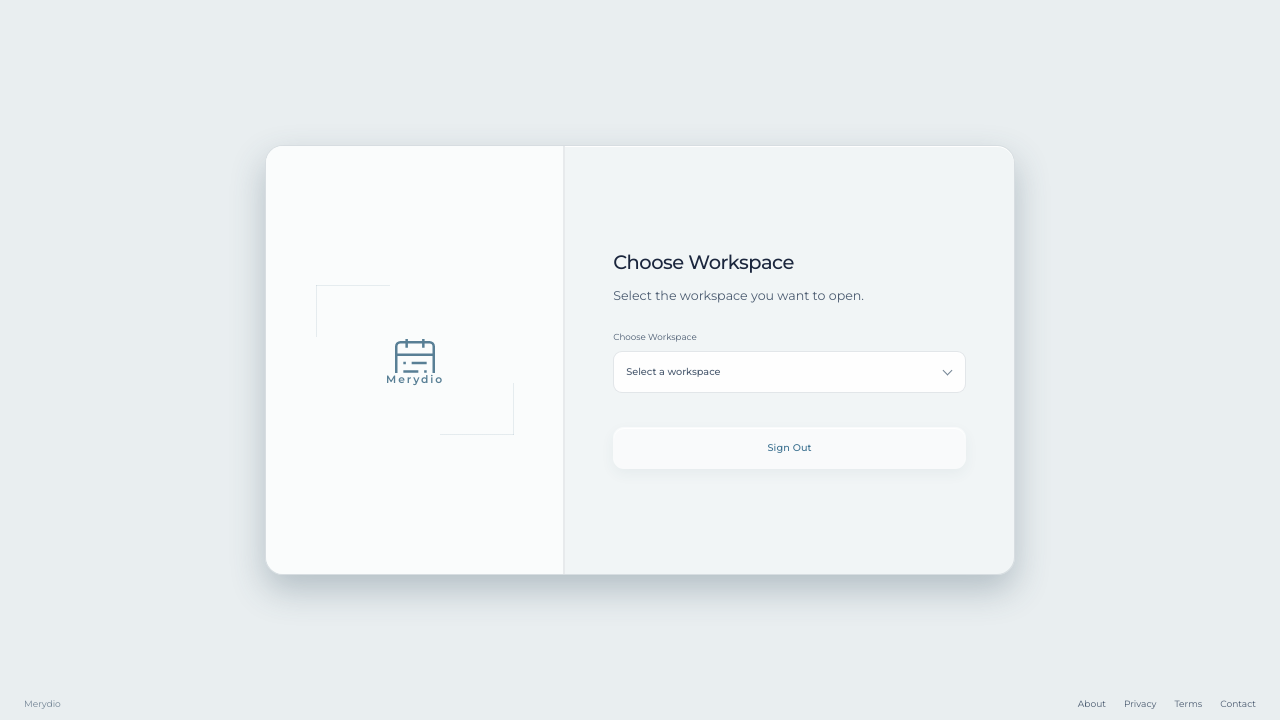
Test case: email account authentication › requires an explicit workspace choice and opens the selected workspace
This screenshot has width=1280, height=720.
Expected: the heading "Choose Workspace" is shown, x1=613 y1=250 x2=794 y2=274
Click the dropdown named "Choose Workspace" at (673, 372), box x1=613 y1=351 x2=966 y2=393
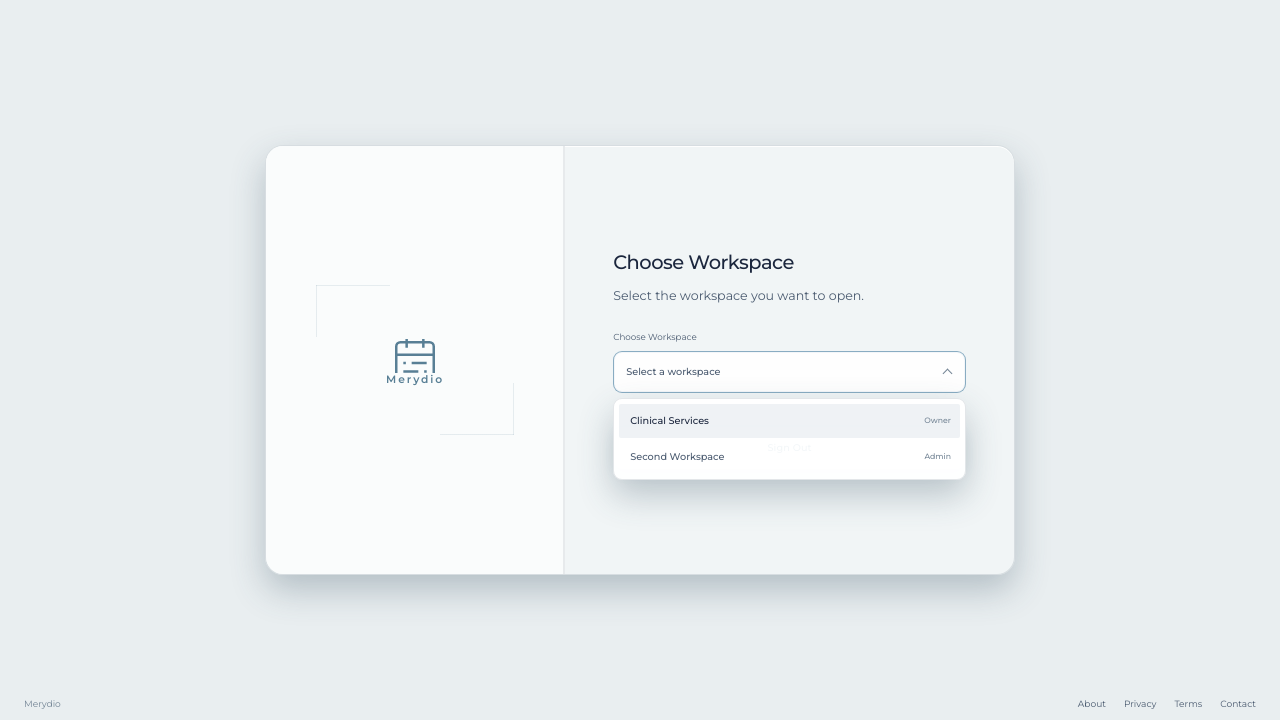
Click the option "Second Workspace Admin" at (677, 457), box x1=619 y1=440 x2=960 y2=474
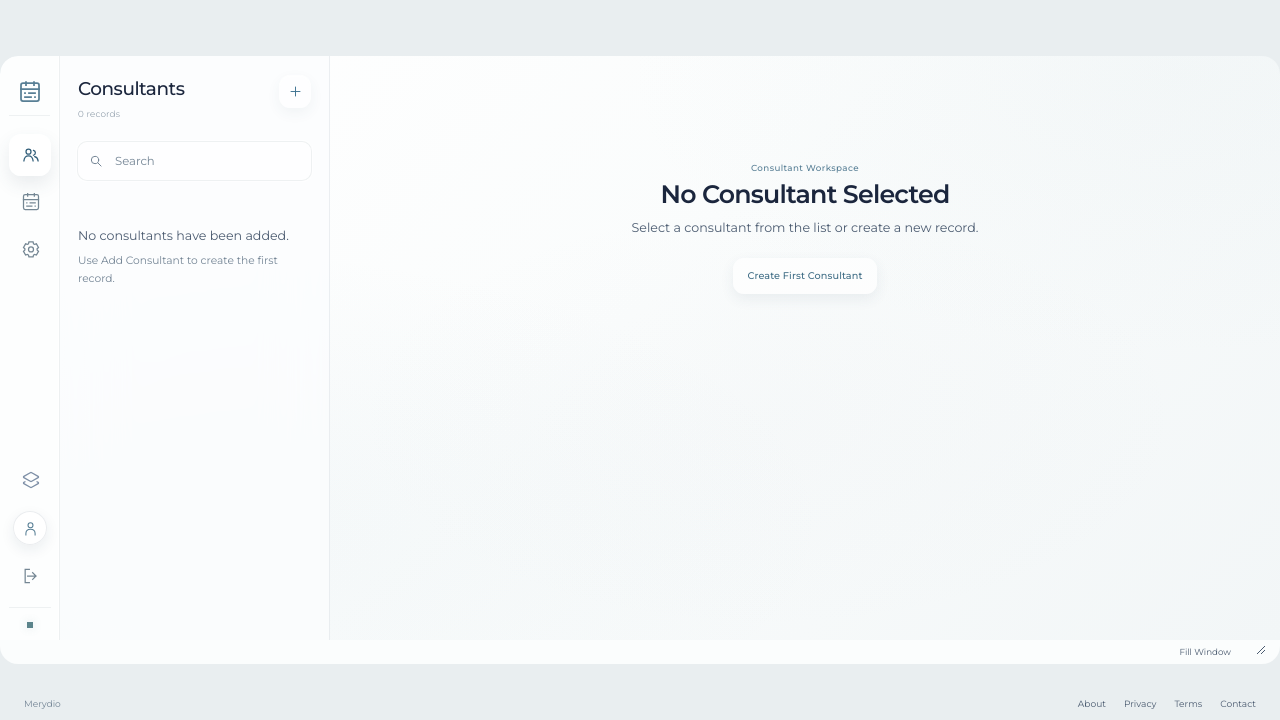
Expected: the heading "Consultants" is shown, x1=78 y1=80 x2=184 y2=98
Click the button named "Switch Workspace" at (30, 480), box x1=9 y1=459 x2=51 y2=501
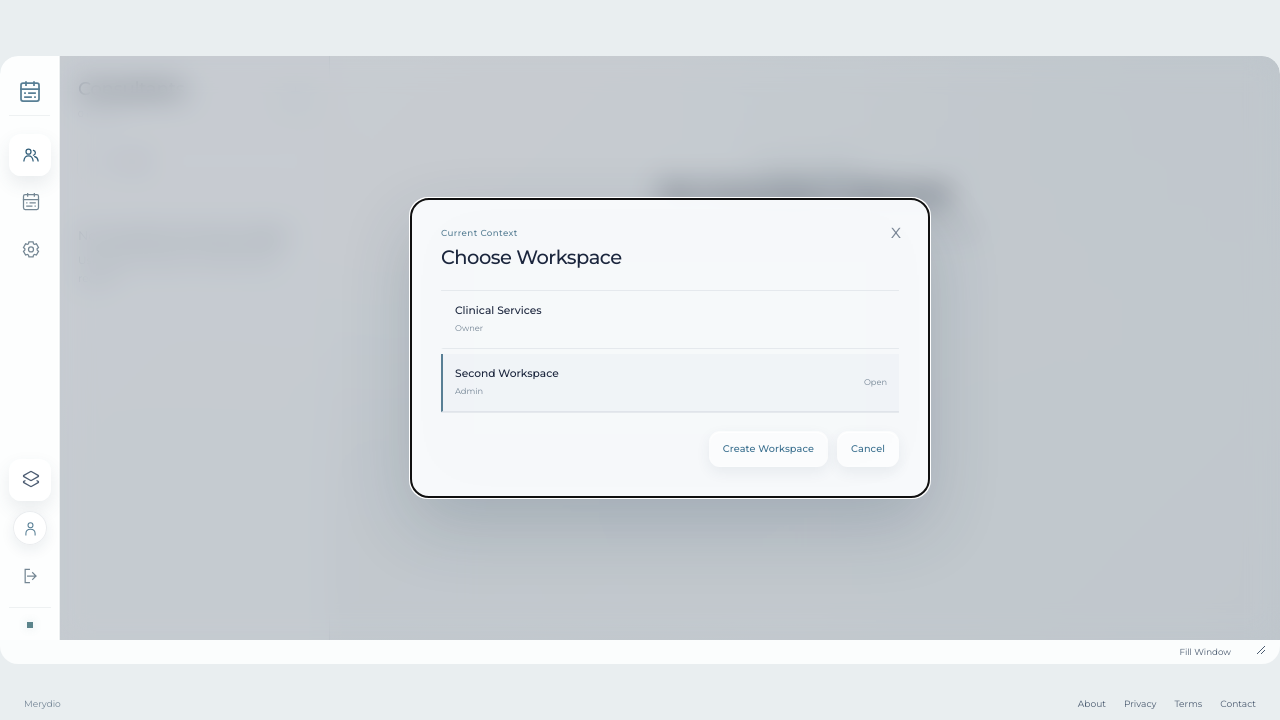
Click the button named "Switch Workspace" at (30, 480), box x1=9 y1=459 x2=51 y2=501
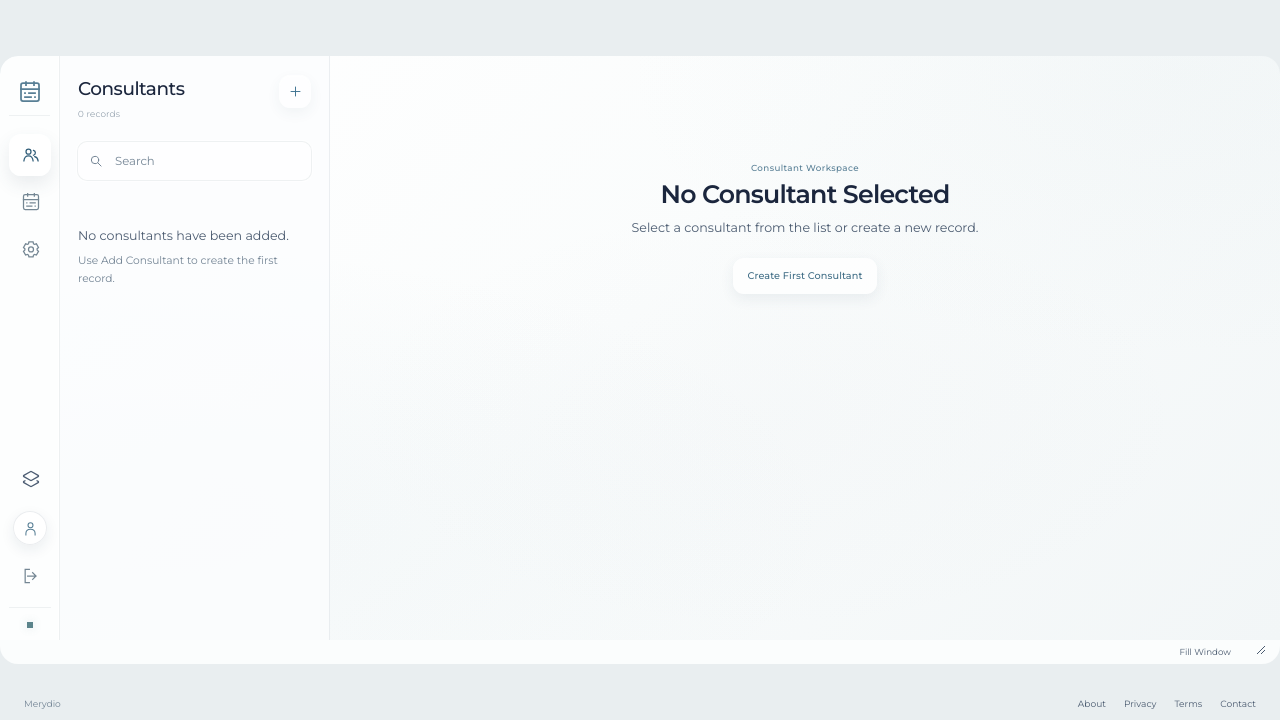
Expected: the heading "Choose Workspace" is gone
